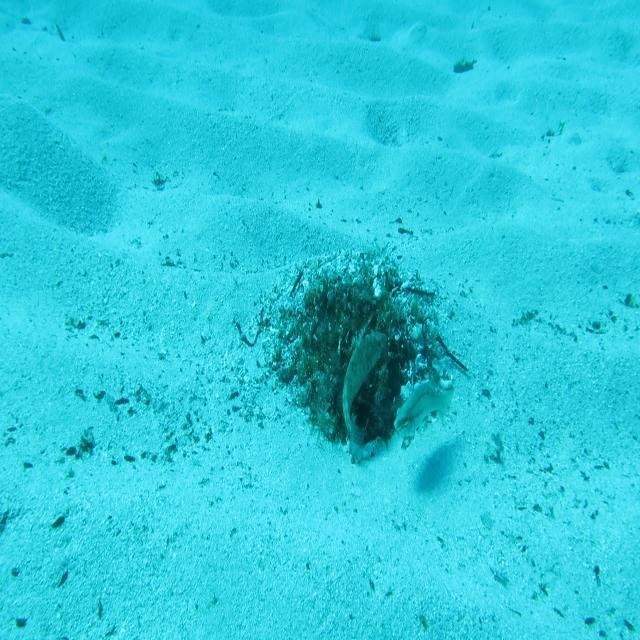BEND: (339, 325, 389, 466)
core_nest: (326, 294, 369, 346)
female: (393, 375, 456, 439)
nest: (263, 246, 459, 466)
vegetation: (452, 53, 476, 75)
